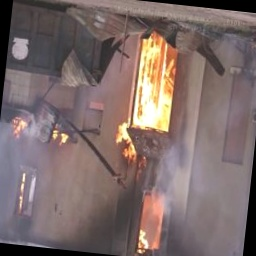fire: (128, 37, 178, 135), (137, 193, 168, 256)
